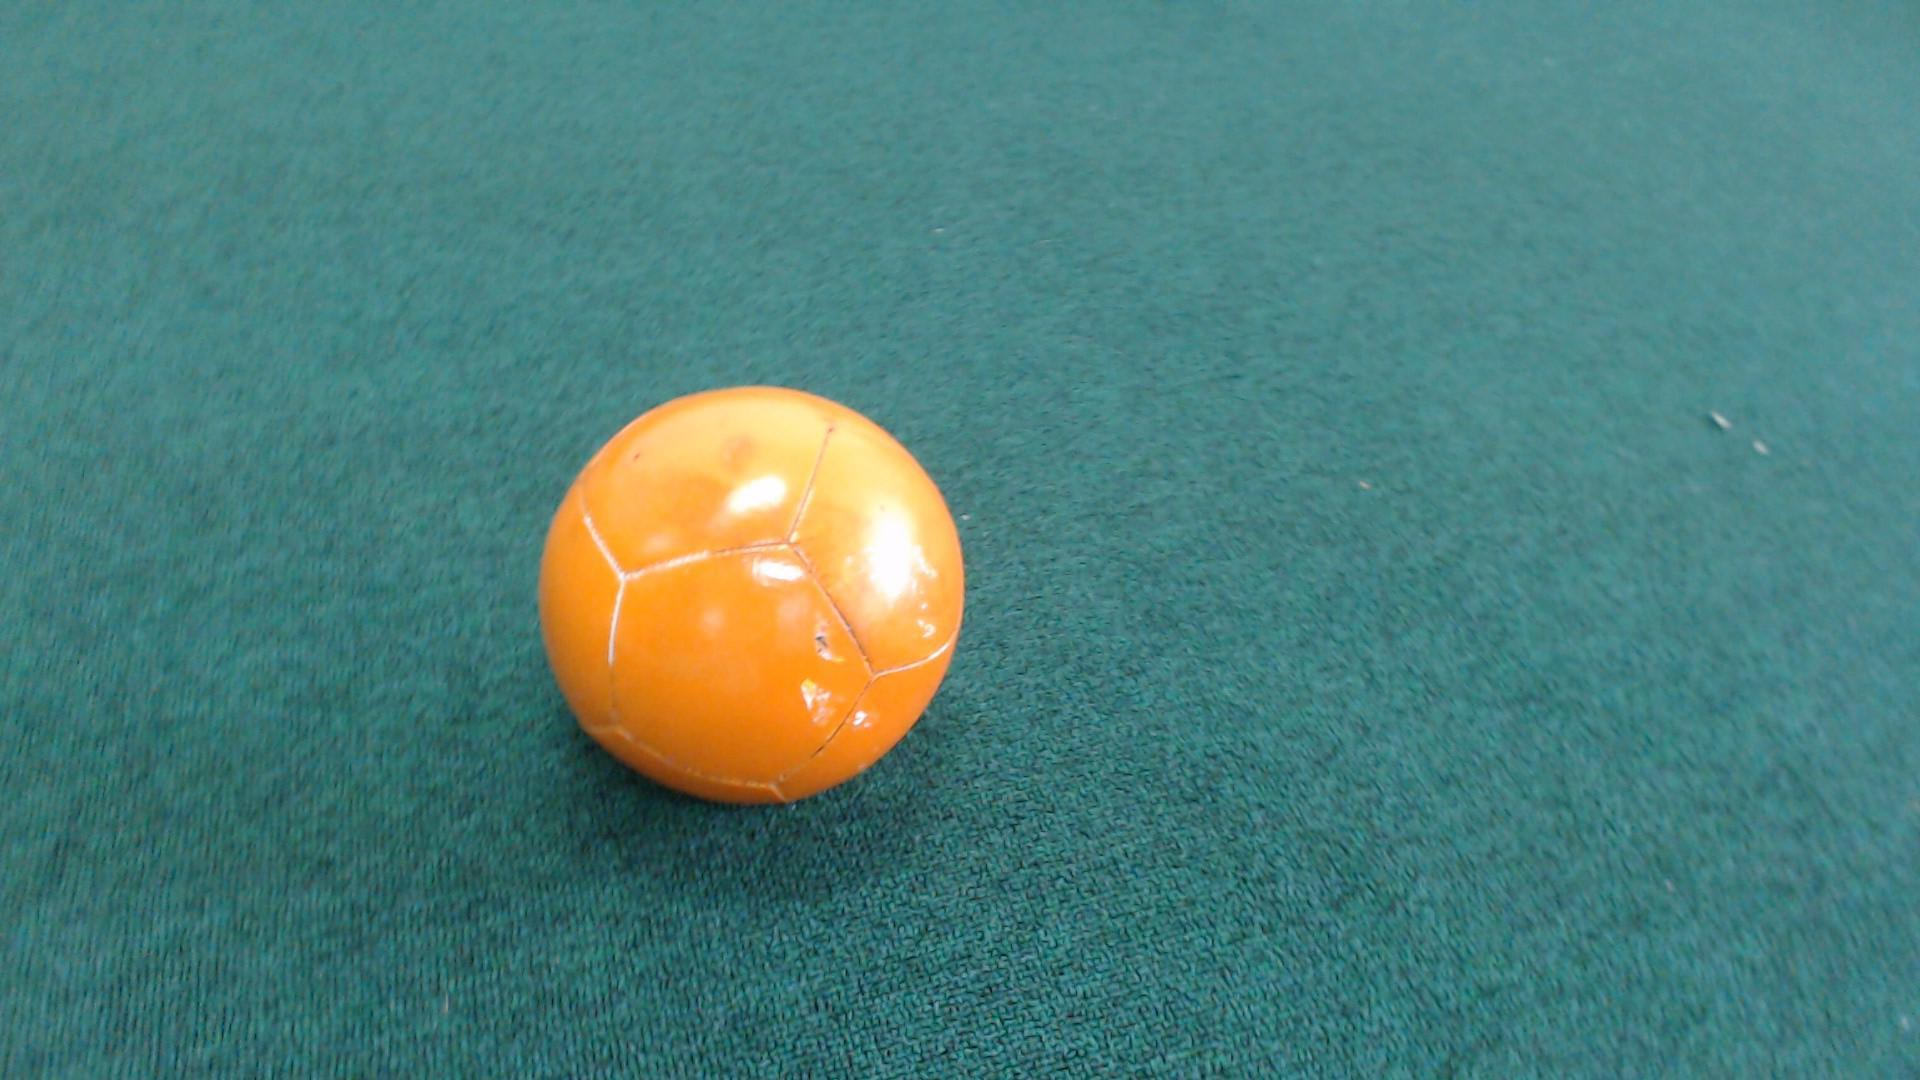bola: (512, 365, 998, 823)
